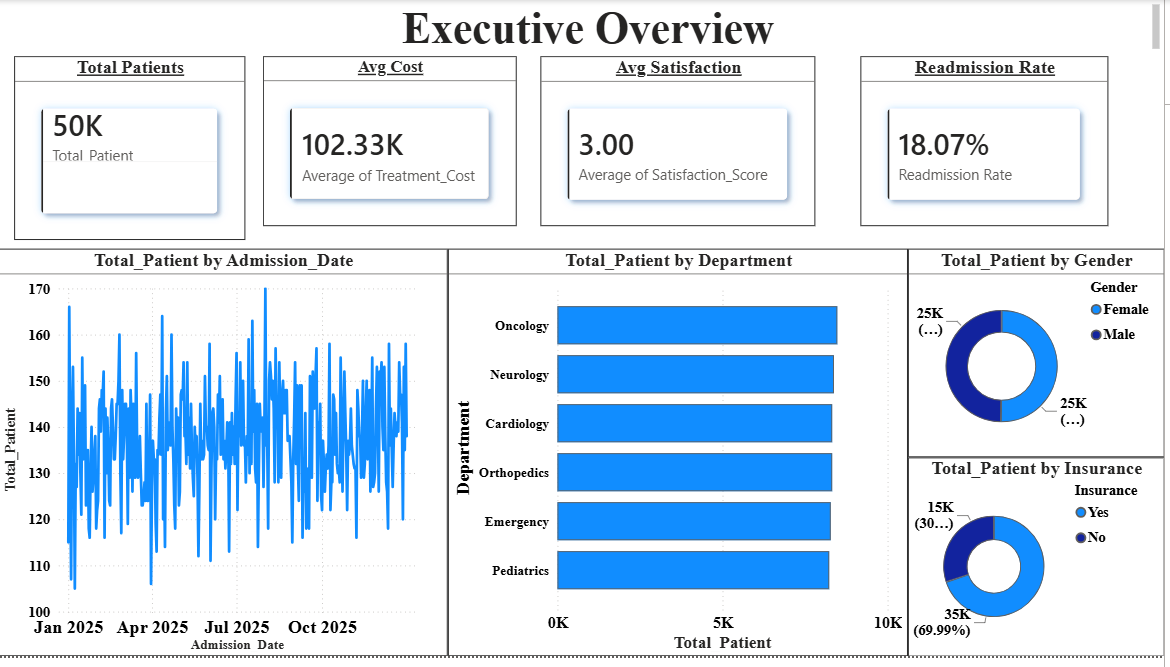

The page's visual inventory and layout, read from the dashboard file:
{"tool":"powerbi","page":{"name":"Executive Overview","canvas":[1280,720],"ordinal":0},"visuals":[{"type":"cardVisual","title":"Total Patients","fields":{"Data":["Hospital_Patient_Dataset_50000.Total_Patient"]},"box":[17.8,61.7,253.9,201.7],"z":0},{"type":"cardVisual","title":"Avg Cost","fields":{"Data":["Avg(Hospital_Patient_Dataset_50000.Treatment_Cost)"]},"box":[290.9,61.7,278.6,186.6],"z":1000},{"type":"cardVisual","title":"Avg Satisfaction","fields":{"Data":["Avg(Hospital_Patient_Dataset_50000.Satisfaction_Score)"]},"box":[595.5,61.7,301.9,186.6],"z":2000},{"type":"cardVisual","title":"Readmission Rate","fields":{"Data":["Hospital_Patient_Dataset_50000.Readmission Rate"]},"box":[946.8,61.7,271.7,186.6],"z":3000},{"type":"lineChart","fields":{"Y":["Hospital_Patient_Dataset_50000.Total_Patient"],"Category":["Hospital_Patient_Dataset_50000.Admission_Date"]},"box":[0,273.1,494,447.3],"z":4000},{"type":"clusteredBarChart","fields":{"Y":["Hospital_Patient_Dataset_50000.Total_Patient"],"Category":["Hospital_Patient_Dataset_50000.Department"]},"box":[494,273.1,505,447.3],"z":5000},{"type":"donutChart","fields":{"Y":["Hospital_Patient_Dataset_50000.Total_Patient"],"Category":["Hospital_Patient_Dataset_50000.Gender"]},"box":[999,273.1,281.3,229.2],"z":6000},{"type":"donutChart","fields":{"Category":["Hospital_Patient_Dataset_50000.Insurance"],"Y":["Hospital_Patient_Dataset_50000.Total_Patient"]},"box":[999,502.2,281.3,218.2],"z":7000},{"type":"textbox","box":[0,0,1280.3,61.7],"z":8000}]}

Visuals, with their boxes in screenshot pixels (x1, y1, x2, y2), scaled from the page's 1280x720 canvas onto the 1170x667 screenshot:
"Total Patients" cardVisual: bbox=(16, 57, 248, 244)
"Avg Cost" cardVisual: bbox=(266, 57, 521, 230)
"Avg Satisfaction" cardVisual: bbox=(544, 57, 820, 230)
"Readmission Rate" cardVisual: bbox=(865, 57, 1114, 230)
lineChart - Hospital_Patient_Dataset_50000.Total_Patient x Hospital_Patient_Dataset_50000.Admission_Date: bbox=(0, 253, 452, 666)
clusteredBarChart - Hospital_Patient_Dataset_50000.Total_Patient x Hospital_Patient_Dataset_50000.Department: bbox=(452, 253, 913, 666)
donutChart - Hospital_Patient_Dataset_50000.Total_Patient x Hospital_Patient_Dataset_50000.Gender: bbox=(913, 253, 1169, 465)
donutChart - Hospital_Patient_Dataset_50000.Insurance x Hospital_Patient_Dataset_50000.Total_Patient: bbox=(913, 465, 1169, 666)
textbox: bbox=(0, 0, 1169, 57)
